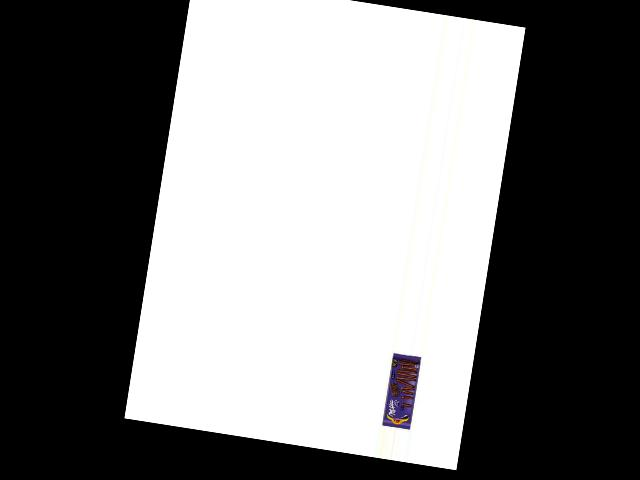chocolate: (381, 351, 425, 431)
